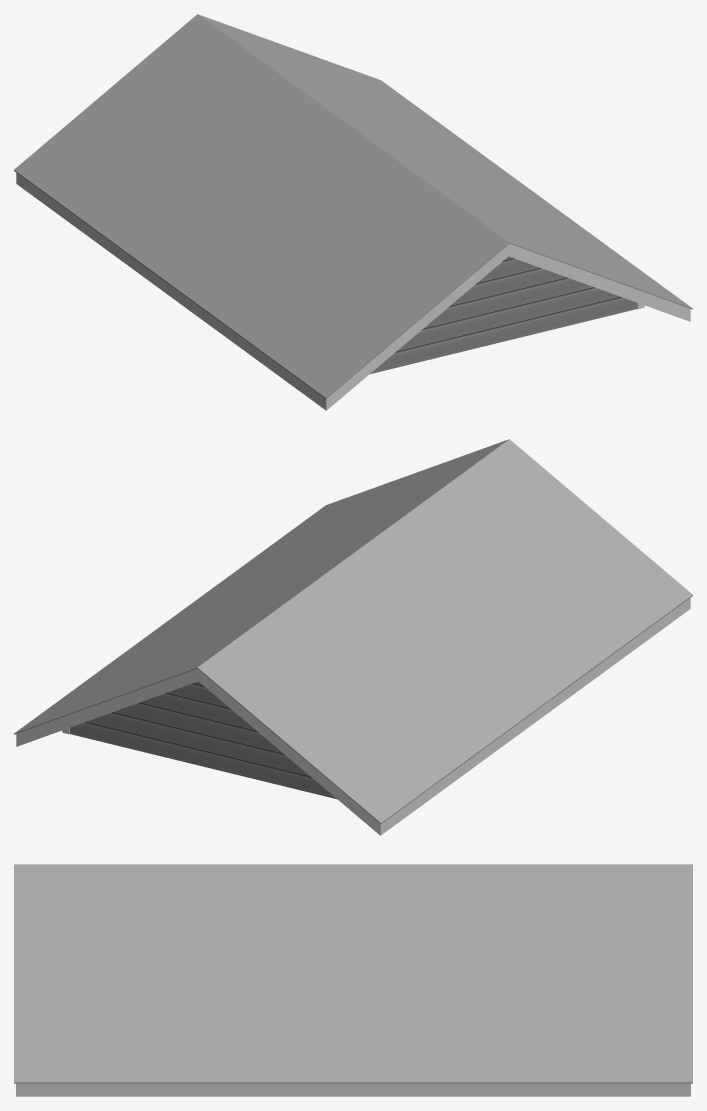
File: gable.glb
3 views of the same model, one above another, from view 1: azimuth 30°, elevation 25°; view 2: azimuth 150°, elevation 25°; view 3: azimuth 270°, elevation 25° (orthographic). The views are drawn at different scales.
Parts seen in each view (by area): view 1: Roof_Top_2, Roof_exterior, Roof_Siding_2; view 2: Roof_Top_2, Roof_exterior, Roof_Siding_2; view 3: Roof_Top_2, Roof_Siding_2.
Boxes of the visible parts, bbox=[...] form: Roof_Top_2: bbox=[14, 14, 692, 398]; Roof_exterior: bbox=[370, 256, 636, 373]; Roof_Siding_2: bbox=[16, 173, 690, 410]; Roof_Top_2: bbox=[14, 439, 692, 823]; Roof_exterior: bbox=[70, 681, 336, 798]; Roof_Siding_2: bbox=[16, 598, 690, 835]; Roof_Top_2: bbox=[14, 864, 692, 1083]; Roof_Siding_2: bbox=[16, 1083, 690, 1096].
Size of the model in its own units: 5.85 by 1.9 by 8.61.
Materials: 7 (2 with a texture image).
